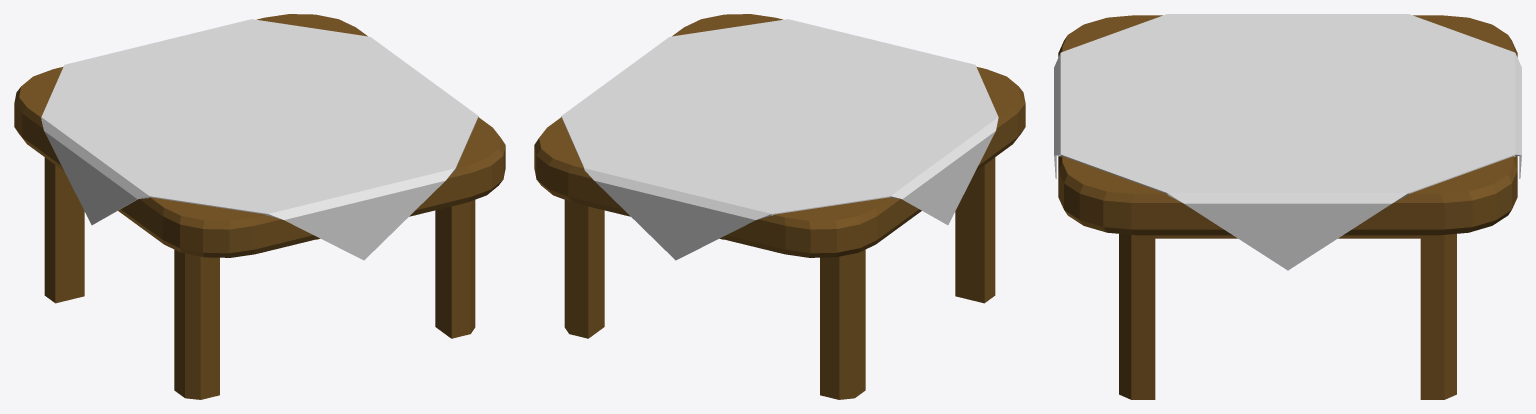
The model's file is Clothed_Round-Table.fbx.
3 views of the same model, side by side, from view 1: azimuth 30°, elevation 25°; view 2: azimuth 150°, elevation 25°; view 3: azimuth 270°, elevation 25° (orthographic). The views are drawn at different scales.
Parts seen in each view (by area): view 1: Plane.001, Cube.007; view 2: Plane.001, Cube.007; view 3: Plane.001, Cube.007.
Boxes of the visible parts, x1,y1,x2,y2 form: Plane.001: (41,19,478,260); Cube.007: (14,14,505,399); Plane.001: (561,19,998,260); Cube.007: (534,14,1025,399); Plane.001: (1054,14,1521,270); Cube.007: (1058,15,1517,399).
Bounding box in the file's own units: 185 × 102 × 198.
